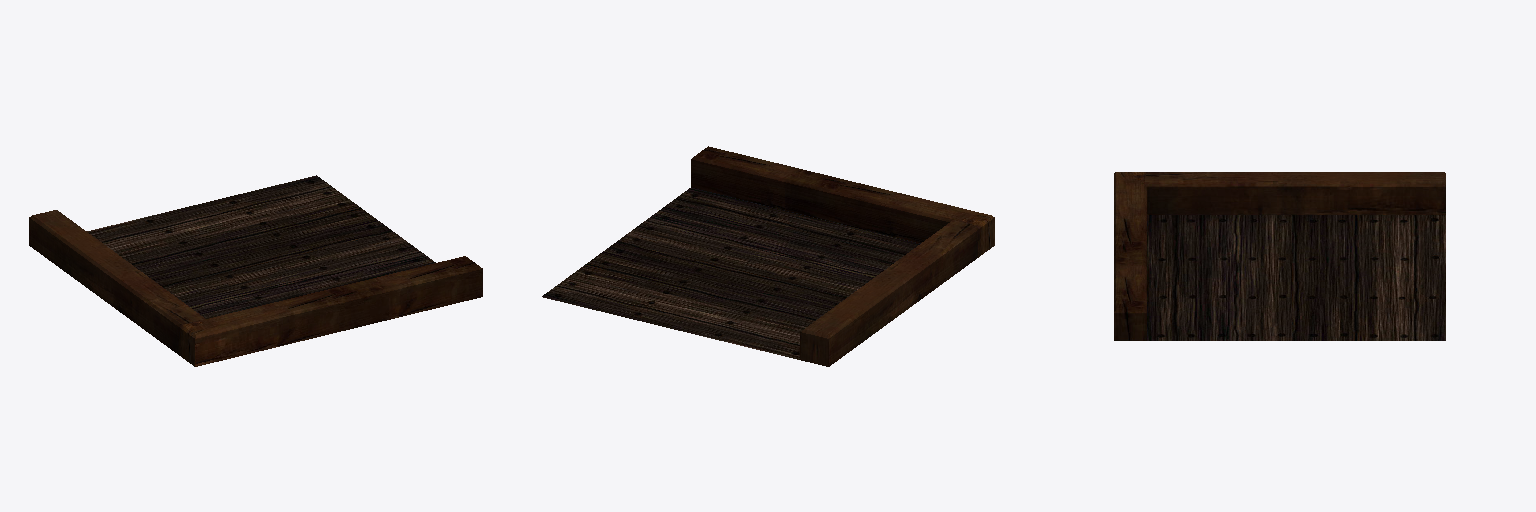
3 renders of one model, left to right at view 1: azimuth 30°, elevation 25°; view 2: azimuth 150°, elevation 25°; view 3: azimuth 270°, elevation 25°, orthographic.
Parts seen in each view (by area): view 1: Roof001_Flat011; view 2: Roof001_Flat011; view 3: Roof001_Flat011.
Part boxes in pixels (left/top/right/bottom): Roof001_Flat011: left=29, top=175, right=482, bottom=366; Roof001_Flat011: left=542, top=146, right=994, bottom=366; Roof001_Flat011: left=1114, top=172, right=1445, bottom=340.
Bounding box in the file's own units: 128 × 13 × 128.
1 materials, 1 textured.